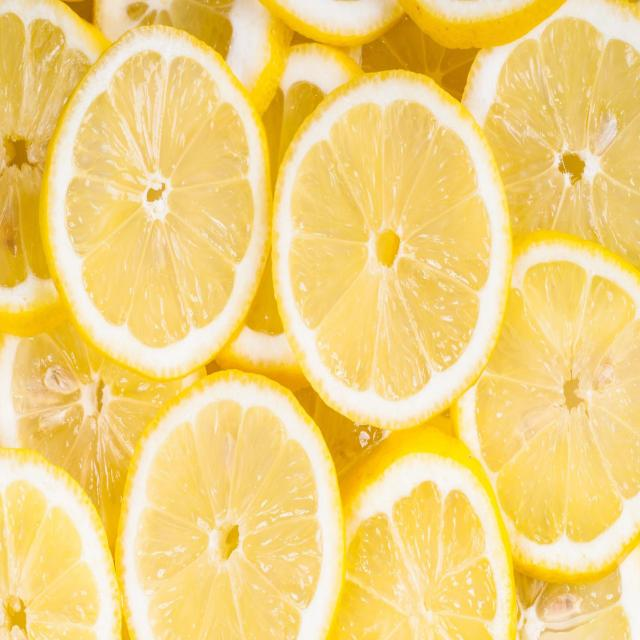lemon: (266, 60, 520, 437), (34, 15, 278, 392), (109, 359, 352, 640)
